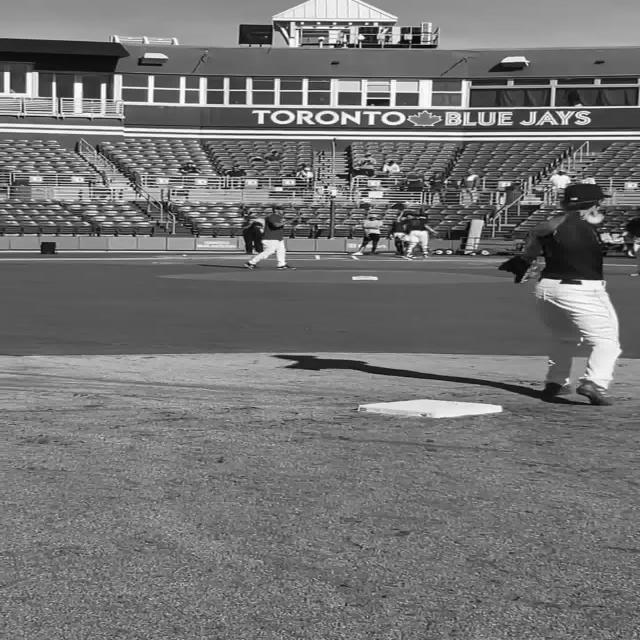base: (354, 400, 505, 414)
baseball: (583, 213, 605, 224)
baseball_glove: (497, 255, 538, 283)
shoe: (574, 380, 612, 406), (542, 382, 572, 400), (243, 261, 256, 269), (276, 265, 296, 270), (351, 252, 363, 256)
